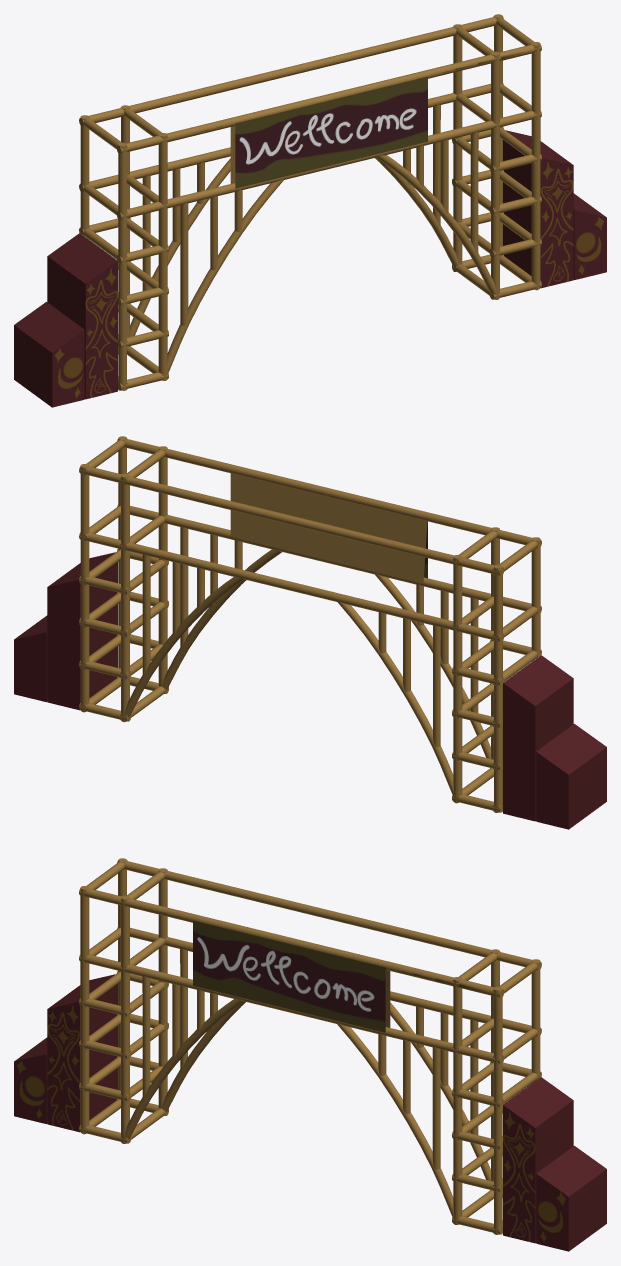
Rendered from gate.fbx.
The picture shows the model from 3 angles, top to bottom: view 1: azimuth 30°, elevation 25°; view 2: azimuth 150°, elevation 25°; view 3: azimuth 330°, elevation 25°; orthographic projection.
Visible parts, largest first — view 1: Cylinder, samping gate; view 2: Cylinder, samping gate; view 3: Cylinder, samping gate.
Part boxes in pixels (left/top/right/bottom): Cylinder: left=79, top=14, right=541, bottom=390; samping gate: left=14, top=130, right=606, bottom=407; Cylinder: left=79, top=436, right=541, bottom=812; samping gate: left=14, top=552, right=606, bottom=829; Cylinder: left=79, top=858, right=541, bottom=1234; samping gate: left=14, top=974, right=606, bottom=1251.
Size of the model in its own units: 1316 by 557 by 173.
2 materials, 2 textured.
